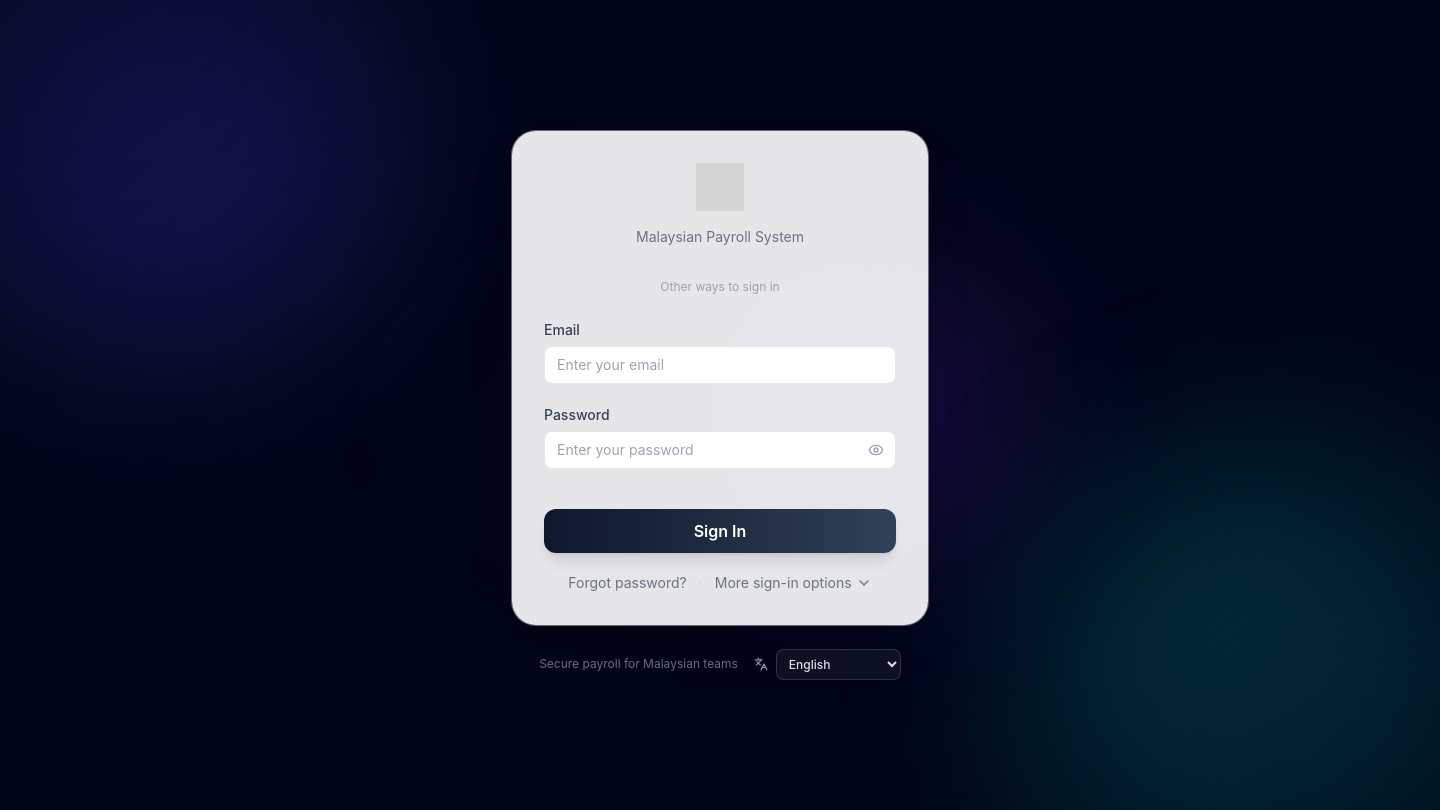
Scenario: code sign-in (authenticator / recovery code) › expands and collapses the extra sign-in methods via the link
Click the button "More sign-in options". click: click(793, 582)
box: [715,572,872,592]
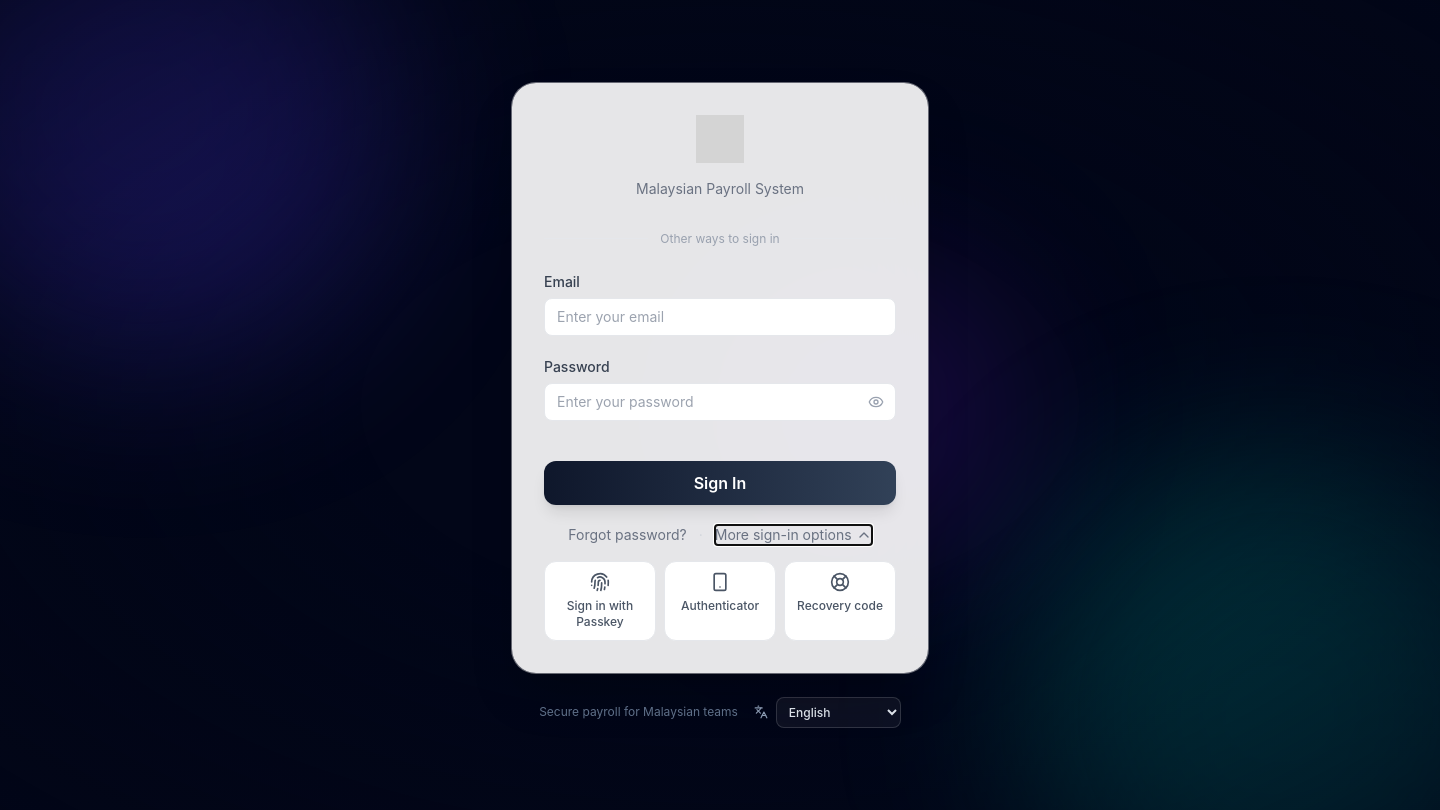
Expected: the button "More sign-in options" is expanded
Expected: the button "Authenticator" is shown, [664,560,776,640]
Expected: the button "Recovery code" is shown, [784,560,896,640]
Click the button "More sign-in options". click: click(793, 534)
box: [715,524,872,544]
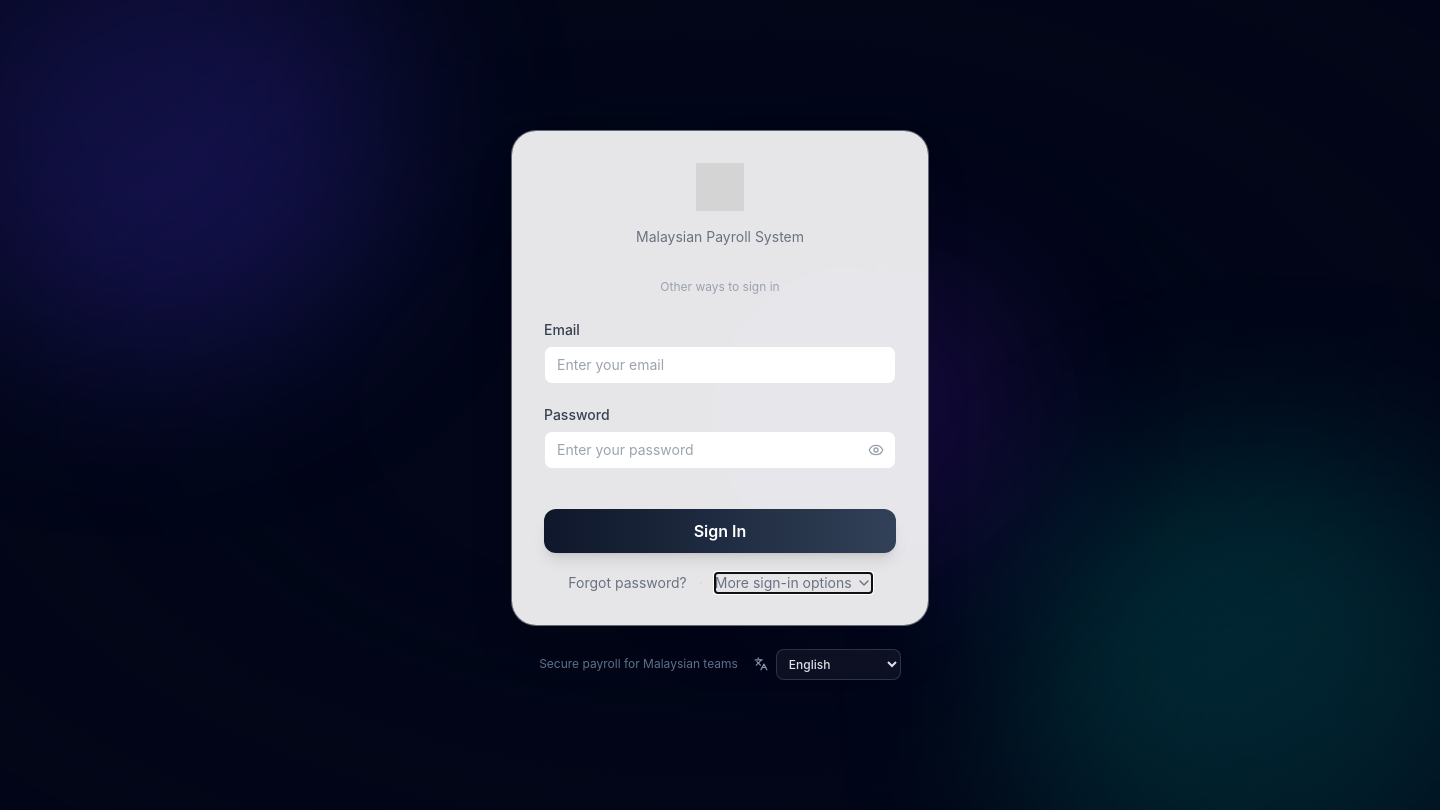
Expected: the button "Authenticator" is gone
